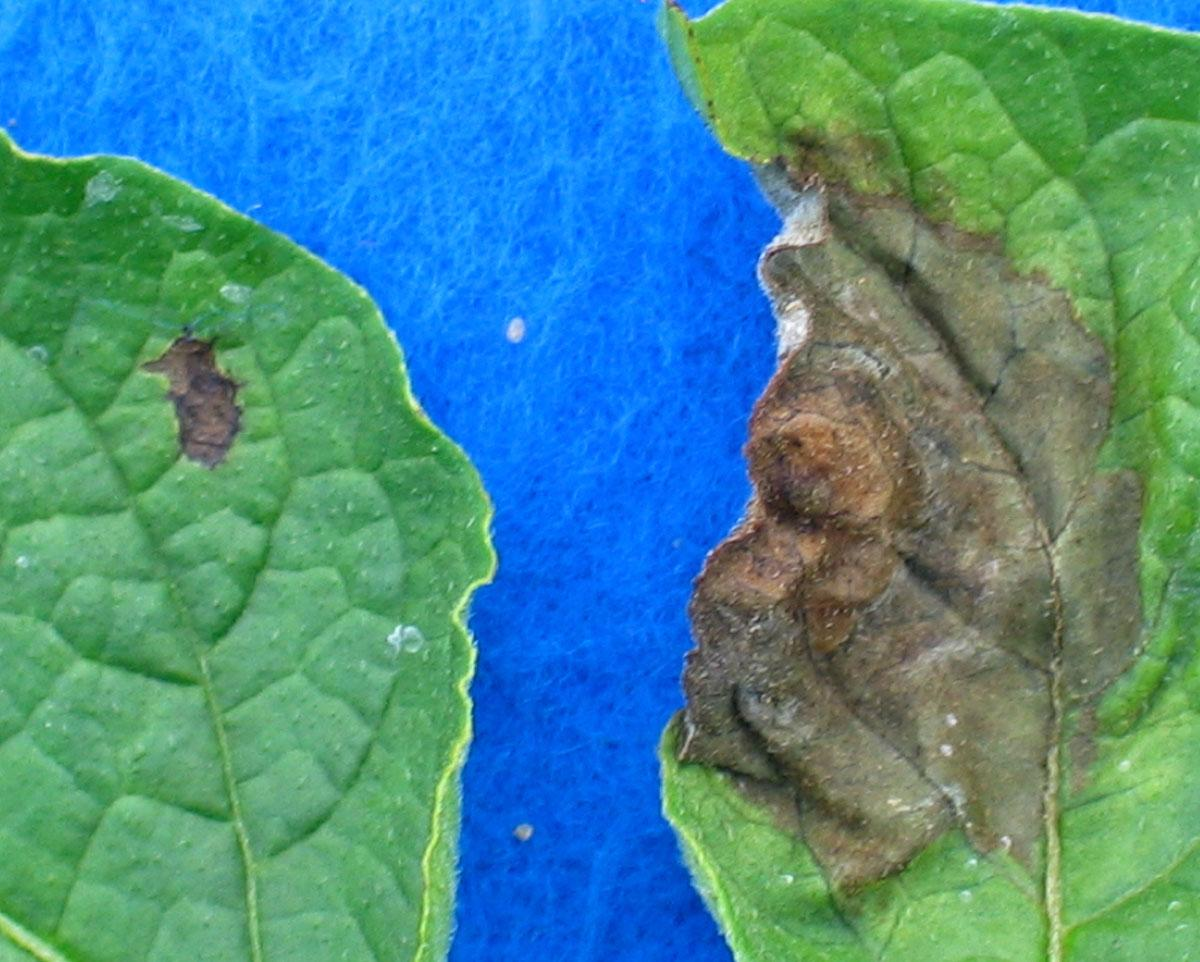Potato leaf late blight: (635, 2, 1200, 960), (1, 108, 496, 961)
